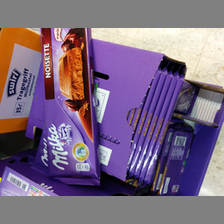chocolate: (38, 28, 99, 182), (161, 129, 190, 195)
